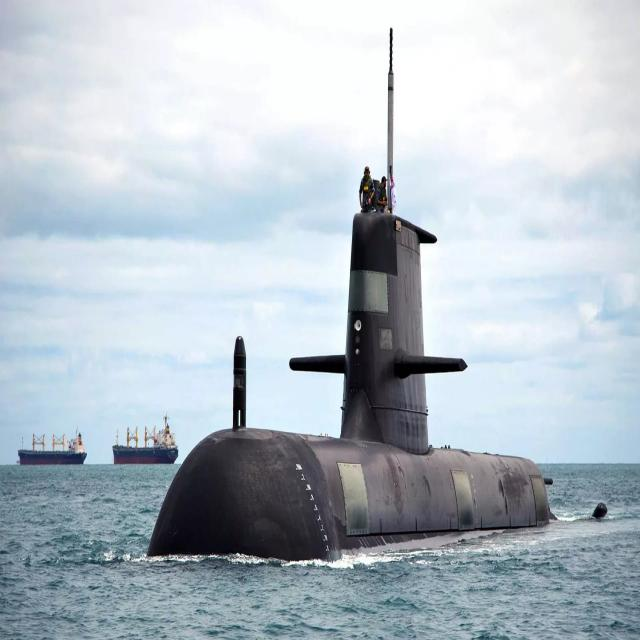submarine: (143, 23, 615, 572)
